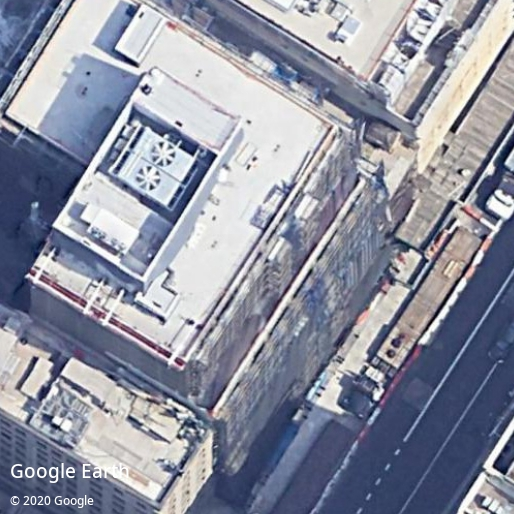Vent: (150, 141, 176, 167), (135, 166, 161, 191)
